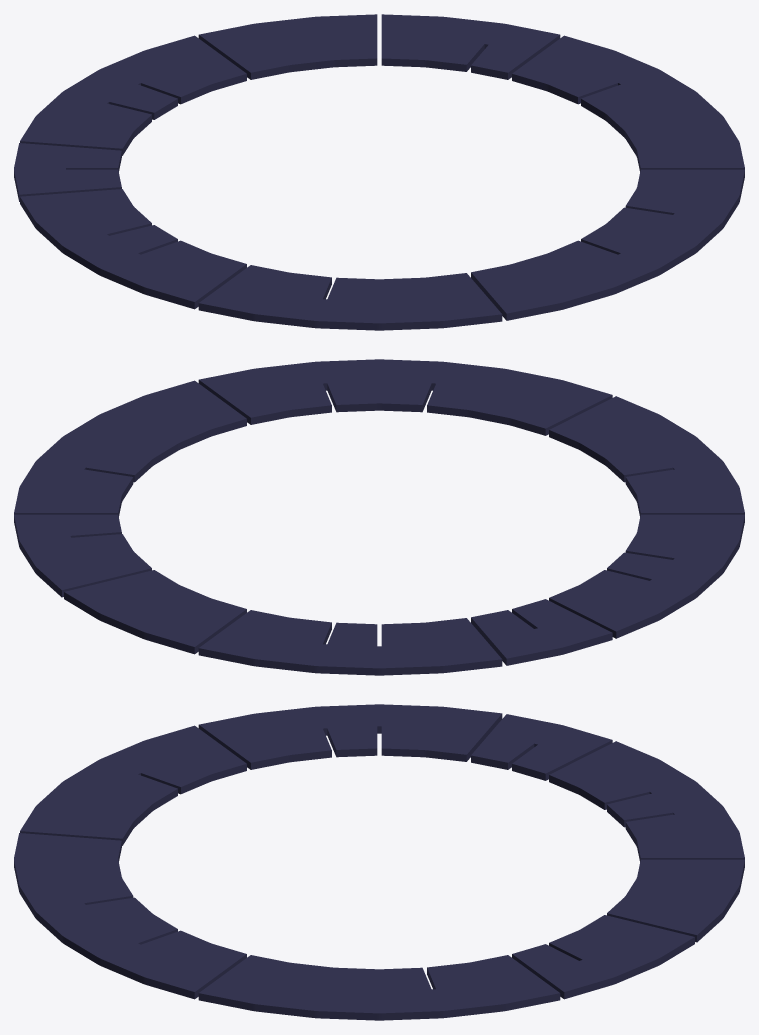
File: OuterRing.fbx
3 renders of one model, top to bottom at view 1: azimuth 30°, elevation 25°; view 2: azimuth 150°, elevation 25°; view 3: azimuth 270°, elevation 25°, orthographic.
Visible parts, largest first — view 1: OuterRing; view 2: OuterRing; view 3: OuterRing.
Part boxes in pixels (x1,y1,x2,y2): OuterRing: (14,14,744,330); OuterRing: (14,359,744,675); OuterRing: (14,704,744,1020).
Size of the model in its own units: 200 by 2.19 by 200.
